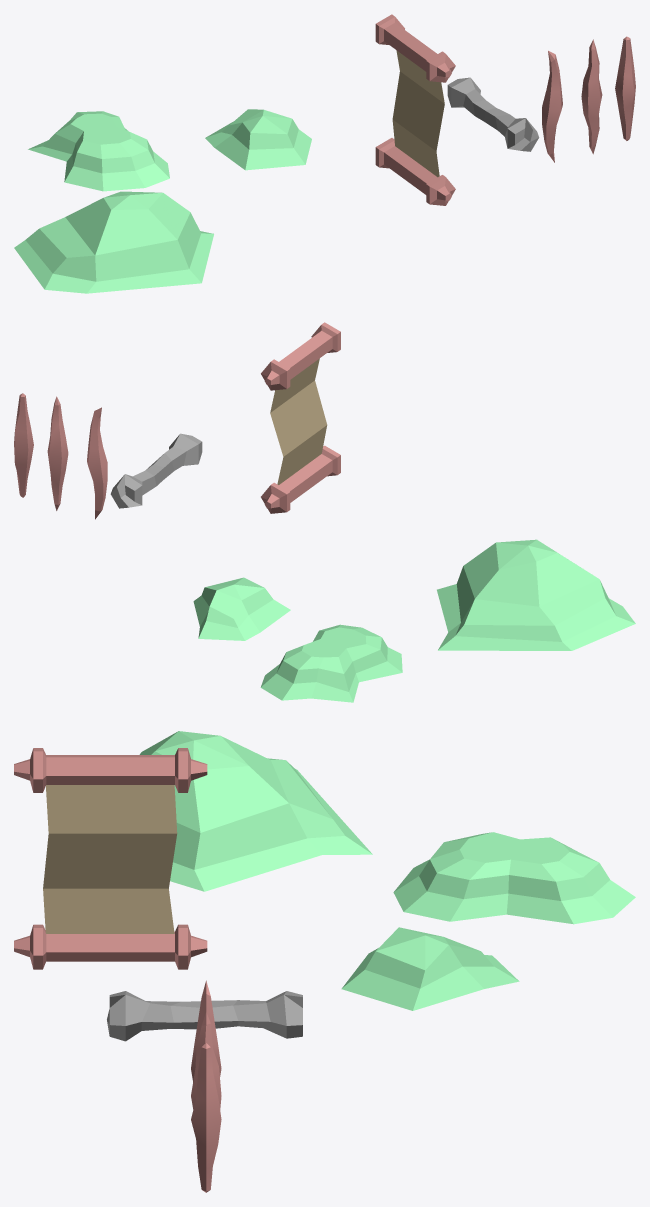
Rendered from MobCrimeSceneModels.fbx.
3 views of the same model, one above another, from view 1: azimuth 30°, elevation 25°; view 2: azimuth 150°, elevation 25°; view 3: azimuth 270°, elevation 25° (orthographic). The views are drawn at different scales.
Visible parts, largest first — view 1: Blob_1, Blob_3, Blob_2, pPlane4, Bone, ScrollHandle1, ScrollHandle, Spike_3, Spike_2, Spike_1; view 2: Blob_1, Blob_3, pPlane4, Blob_2, Bone, ScrollHandle1, ScrollHandle, Spike_2, Spike_1, Spike_3; view 3: Blob_1, pPlane4, Blob_3, Blob_2, Bone, ScrollHandle1, ScrollHandle, Spike_3, Spike_2, Spike_1.
Part boxes in pixels (x1,y1,x2,y2): Blob_1: (14,191,213,293); Blob_3: (28,111,169,191); Blob_2: (205,109,311,170); pPlane4: (392,50,444,177); Bone: (447,77,539,151); ScrollHandle1: (375,14,455,82); ScrollHandle: (375,138,455,205); Spike_3: (615,36,635,140); Spike_2: (581,39,602,154); Spike_1: (542,50,562,162); Blob_1: (437,539,635,650); Blob_3: (260,624,402,702); pPlane4: (270,358,327,484); Blob_2: (193,577,290,640); Bone: (110,433,202,508); ScrollHandle1: (261,322,340,390); ScrollHandle: (261,445,340,513); Spike_2: (47,396,68,510); Spike_1: (87,407,107,519); Spike_3: (14,393,33,497); Blob_1: (139,731,372,891); pPlane4: (43,785,177,933); Blob_3: (393,832,635,924); Blob_2: (341,927,519,1010); Bone: (107,991,302,1041); ScrollHandle1: (14,748,207,792); ScrollHandle: (14,924,207,969); Spike_3: (191,1043,221,1192); Spike_2: (191,1012,221,1109); Spike_1: (191,980,221,1081).
Size of the model in its own units: 3.12 by 0.9611 by 1.93.
